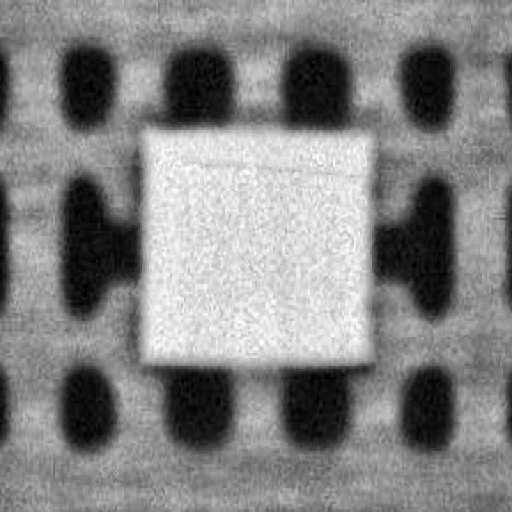DIE_CRACK: (273, 106, 512, 114)
